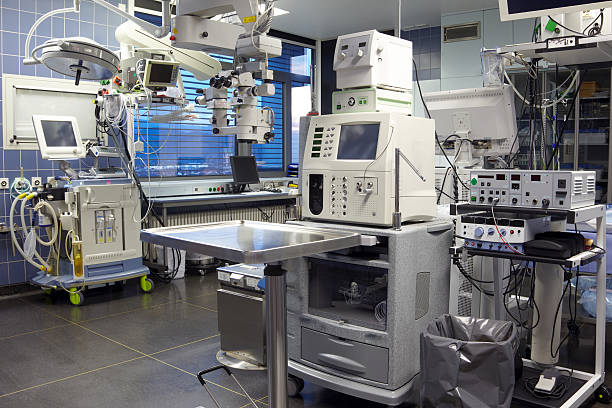bedside_monitor: (331, 110, 379, 162), (497, 1, 610, 22), (34, 114, 84, 155), (142, 62, 179, 97)
breathing_tube: (1, 185, 60, 278)
cabinet: (493, 64, 612, 214)
computer: (419, 85, 522, 159), (231, 153, 261, 185)
surgical_light: (44, 33, 119, 98)
utility_cart: (141, 220, 364, 408)
ventilator: (28, 178, 142, 299)
waste_bin: (418, 315, 522, 408)
